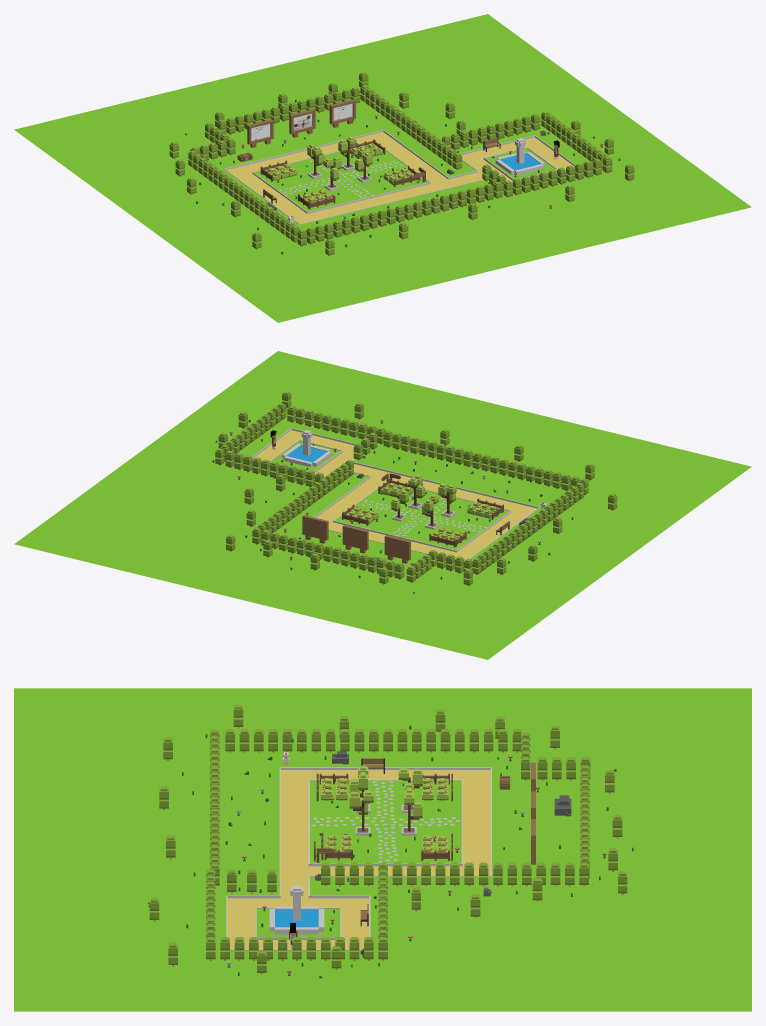
The model's file is Portfolio3.glb.
3 renders of one model, top to bottom at view 1: azimuth 30°, elevation 25°; view 2: azimuth 150°, elevation 25°; view 3: azimuth 270°, elevation 25°, orthographic. The views are drawn at different scales.
Parts seen in each view (by area): view 1: Level, Project2, Project1, Project3; view 2: Level, Project3, Project2, Project1; view 3: Level.
Boxes of the visible parts, x1,y1,x2,y2 form: Level: (14,14,751,322); Project2: (289,109,315,137); Project1: (247,119,273,147); Project3: (329,99,355,127); Level: (14,351,751,659); Project3: (302,515,328,543); Project2: (342,525,368,553); Project1: (384,535,410,563); Level: (14,688,751,1011).
Size of what is drawn, in the model's own units: 344 by 21.2 by 332.
Materials: 48 (2 with a texture image).
